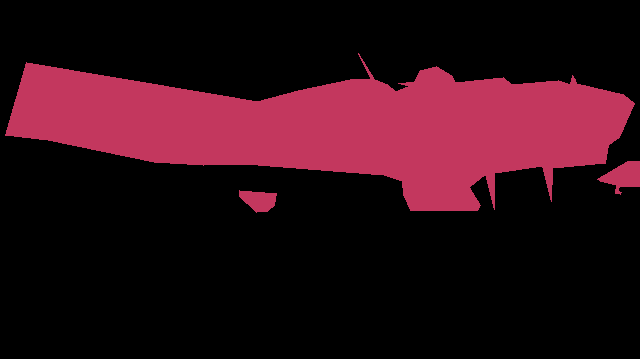Airplane: (5, 53, 634, 213), (597, 161, 640, 195)
